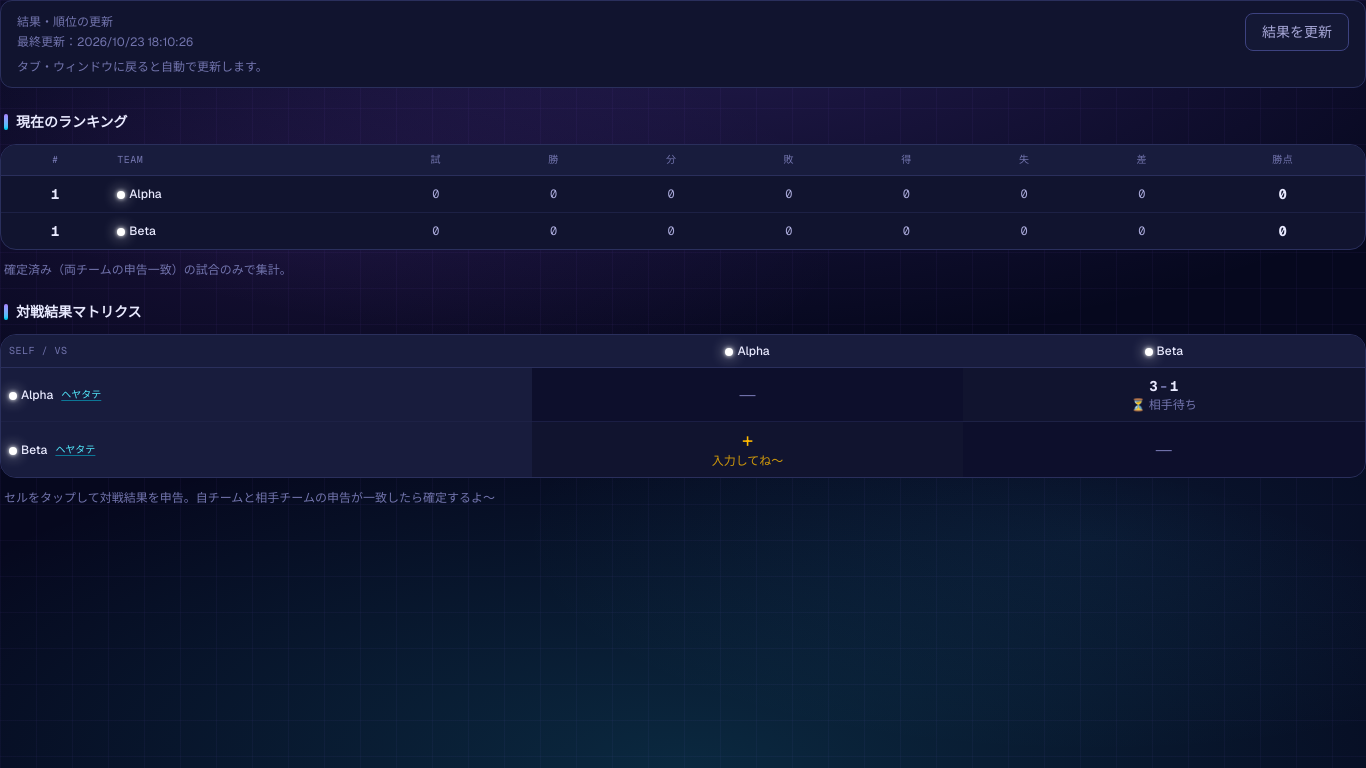
Test: MatchMatrix result refresh › keeps the draft open and permits retry when saving fails
The width and height of the screenshot is (1366, 768).
Click the text "⏳ 相手待ち".
click(1164, 405)  # box [1131,397,1197,413]
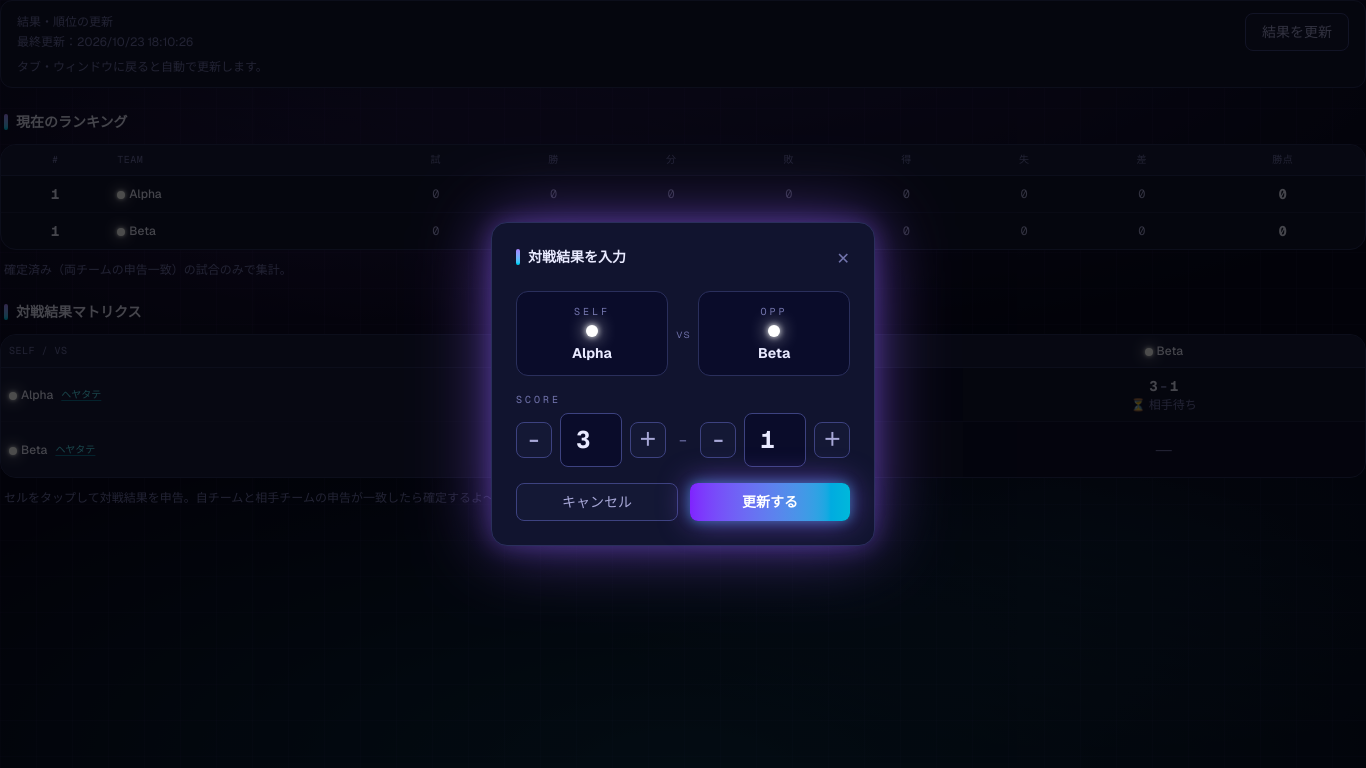
Click the button "更新する".
click(770, 502)  # box [690,483,850,521]
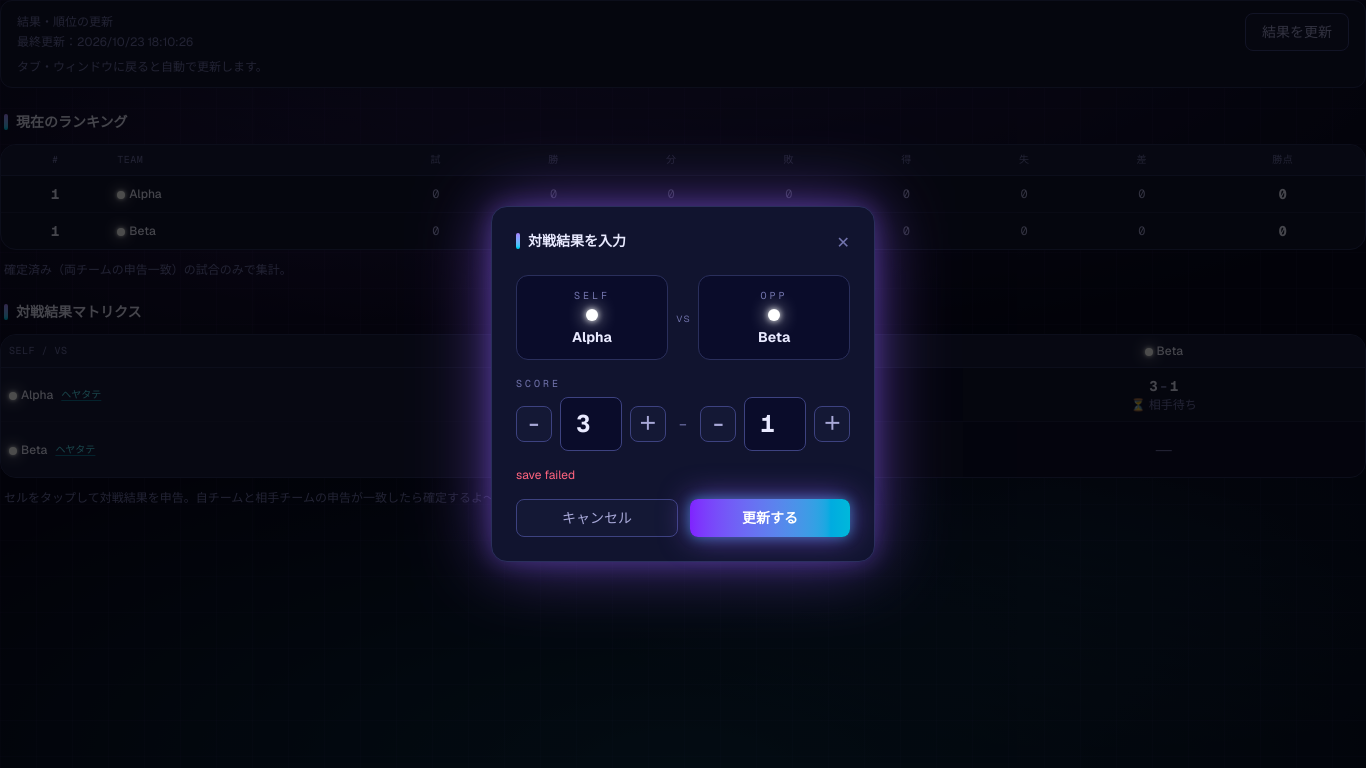
expect the number field named "Alphaのスコア" holds "3": met, box [560,397,622,451]
expect the button "更新する" is enabled: met, box [690,499,850,537]
expect the message reads "save failed": met, box [516,467,575,483]
